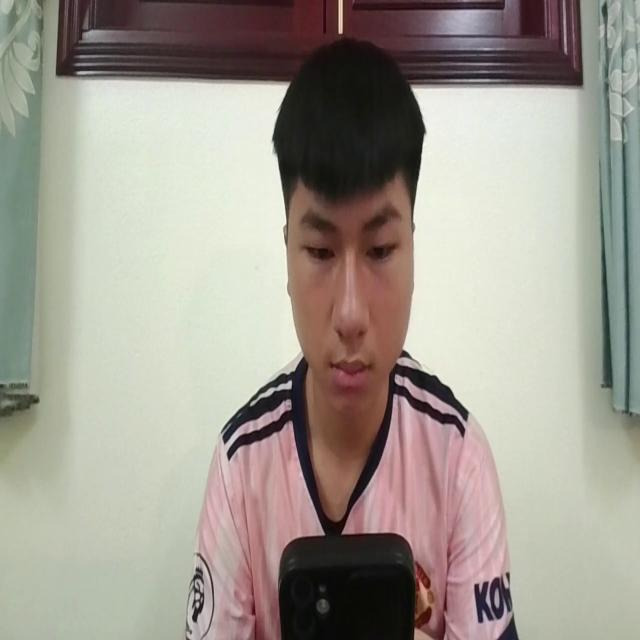phone: (277, 530, 418, 640)
student: (200, 92, 509, 640)
